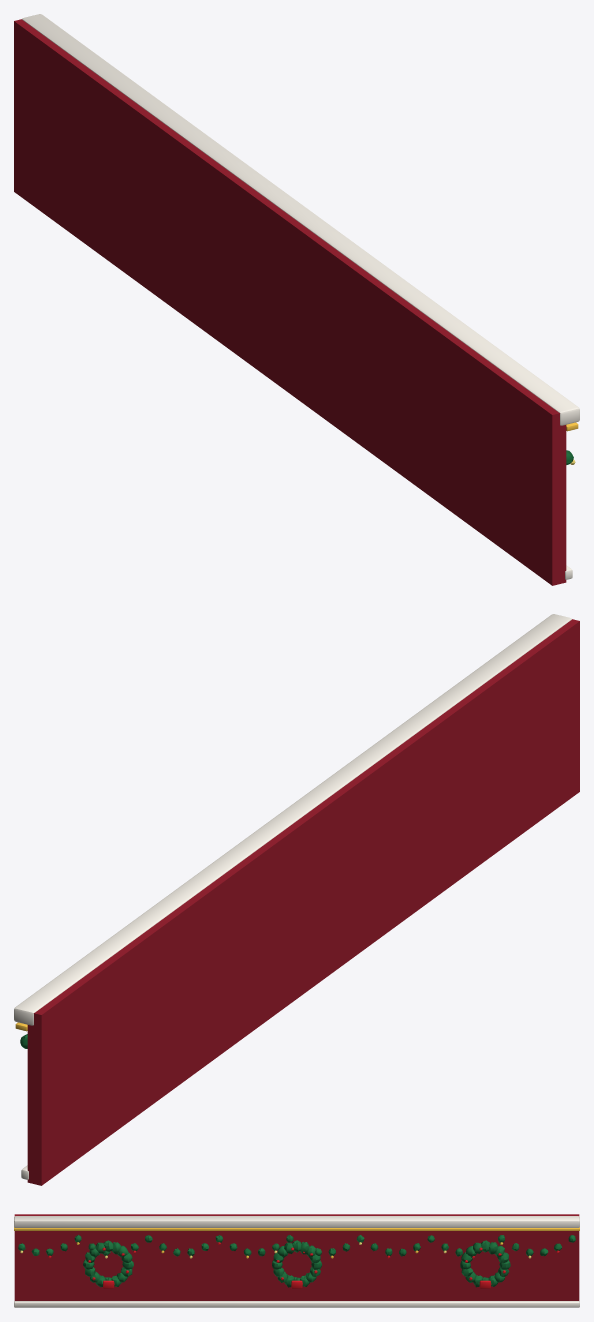
File: WallNewYear.fbx
3 views of the same model, one above another, from view 1: azimuth 30°, elevation 25°; view 2: azimuth 150°, elevation 25°; view 3: azimuth 270°, elevation 25° (orthographic). The views are drawn at different scales.
Parts seen in each view (by area): view 1: WallNewYear; view 2: WallNewYear; view 3: WallNewYear.
Part boxes in pixels (x1=…): WallNewYear: x1=14, y1=14, x2=579, y2=585; WallNewYear: x1=14, y1=614, x2=579, y2=1185; WallNewYear: x1=14, y1=1214, x2=579, y2=1307.
Size of the model in its own units: 275 by 1410 by 8020.
